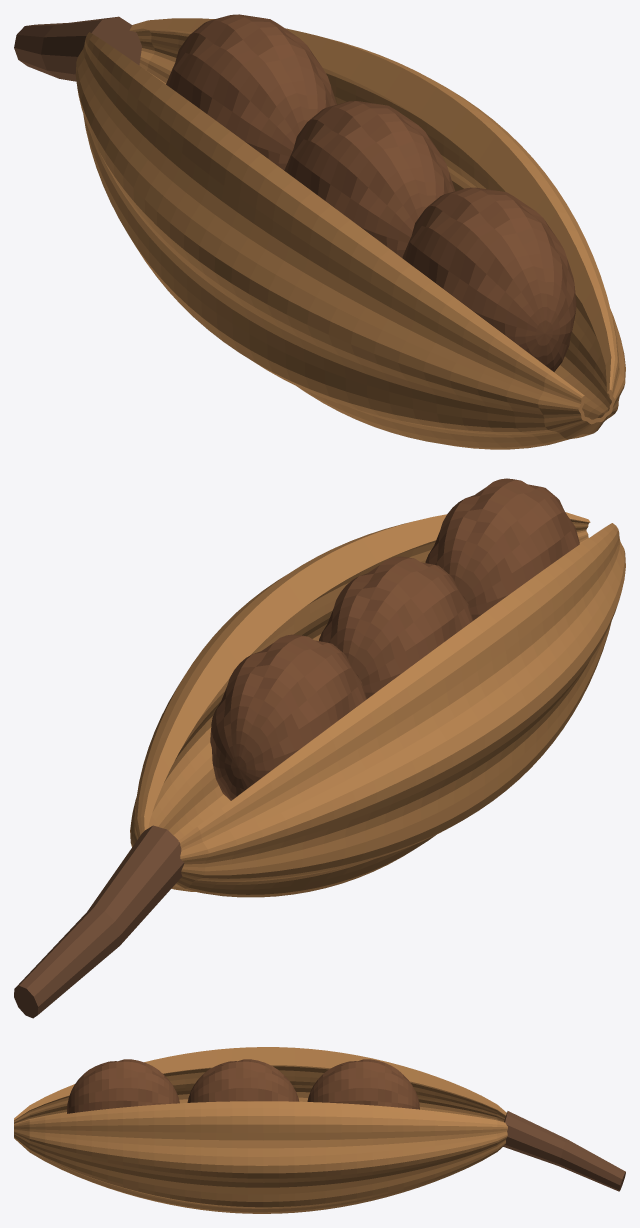
The model's file is spirematospermum.glb.
3 renders of one model, top to bottom at view 1: azimuth 30°, elevation 25°; view 2: azimuth 150°, elevation 25°; view 3: azimuth 270°, elevation 25°, orthographic. The views are drawn at different scales.
Visible parts, largest first — view 1: Ribbed capsule thick open wall, Embedded spiral seed 1, Embedded spiral seed 2, Embedded spiral seed 3, Curved basal stalk; view 2: Ribbed capsule thick open wall, Embedded spiral seed 3, Embedded spiral seed 1, Embedded spiral seed 2, Curved basal stalk; view 3: Ribbed capsule thick open wall, Embedded spiral seed 1, Embedded spiral seed 3, Curved basal stalk, Embedded spiral seed 2.
Part boxes in pixels (box(x1,y1,x2,y2)): Ribbed capsule thick open wall: box(75, 18, 625, 449); Embedded spiral seed 1: box(402, 187, 576, 371); Embedded spiral seed 2: box(284, 101, 454, 258); Embedded spiral seed 3: box(166, 14, 336, 170); Curved basal stalk: box(14, 16, 141, 81); Ribbed capsule thick open wall: box(130, 512, 625, 897); Embedded spiral seed 3: box(210, 634, 366, 800); Embedded spiral seed 1: box(425, 478, 579, 620); Embedded spiral seed 2: box(319, 556, 472, 698); Curved basal stalk: box(14, 825, 184, 1018); Ribbed capsule thick open wall: box(14, 1047, 507, 1213); Embedded spiral seed 1: box(67, 1059, 179, 1113); Embedded spiral seed 3: box(307, 1059, 419, 1109); Curved basal stalk: box(503, 1111, 625, 1191); Embedded spiral seed 2: box(187, 1059, 299, 1102).
Size of the model in its own units: 0.018 by 0.016 by 0.062.
